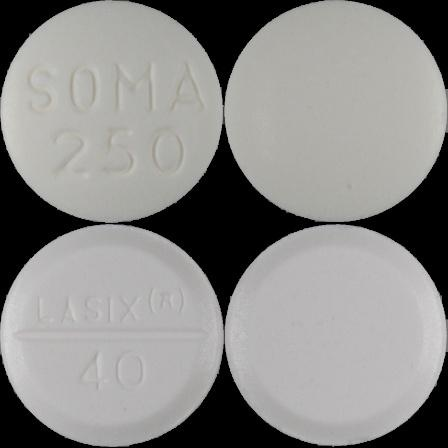0037-2250: (0, 0, 224, 224)
